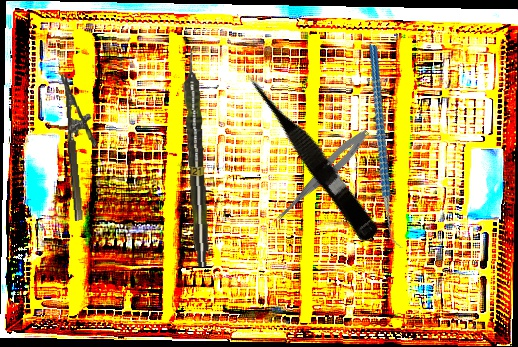Chopper: (322, 44, 452, 249)
Handpiece: (181, 47, 212, 268)
Micro Scissor: (240, 65, 385, 245), (270, 124, 373, 230)
Needle Holder: (60, 71, 104, 222)
